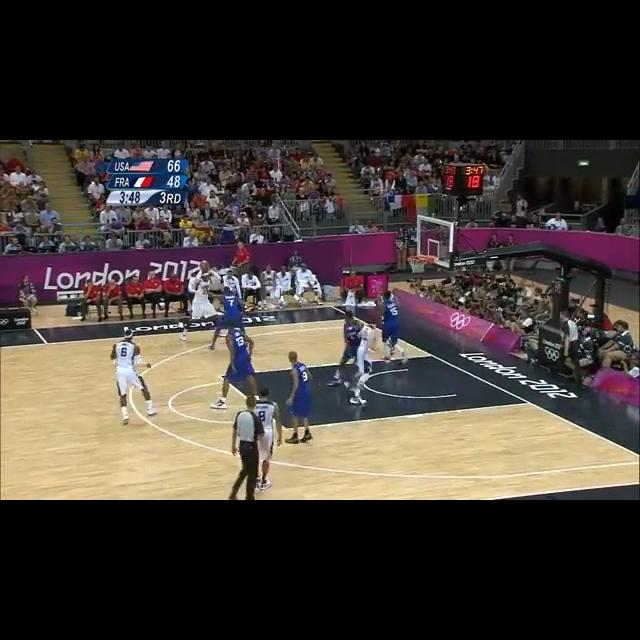basketball: (199, 261, 210, 273)
hoop: (406, 254, 429, 276)
